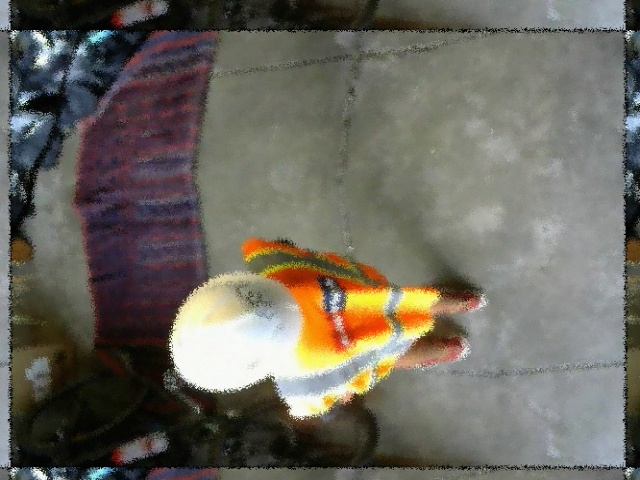eight: (235, 282, 277, 317)
